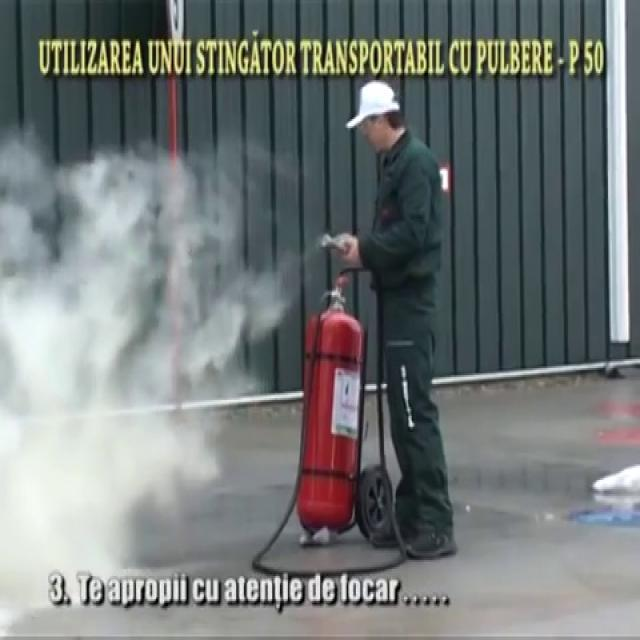Smoke: (0, 155, 300, 634)
